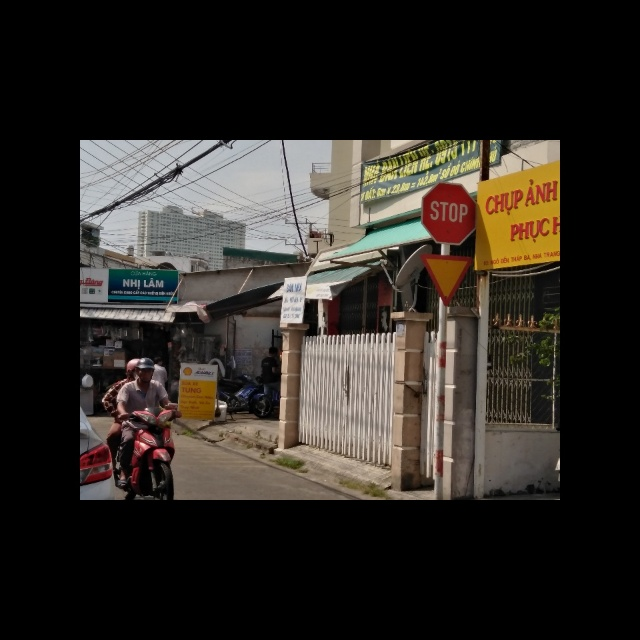Dừng lại: (420, 181, 477, 243)
Giao nhau với đường ưu tiên: (419, 254, 472, 306)
